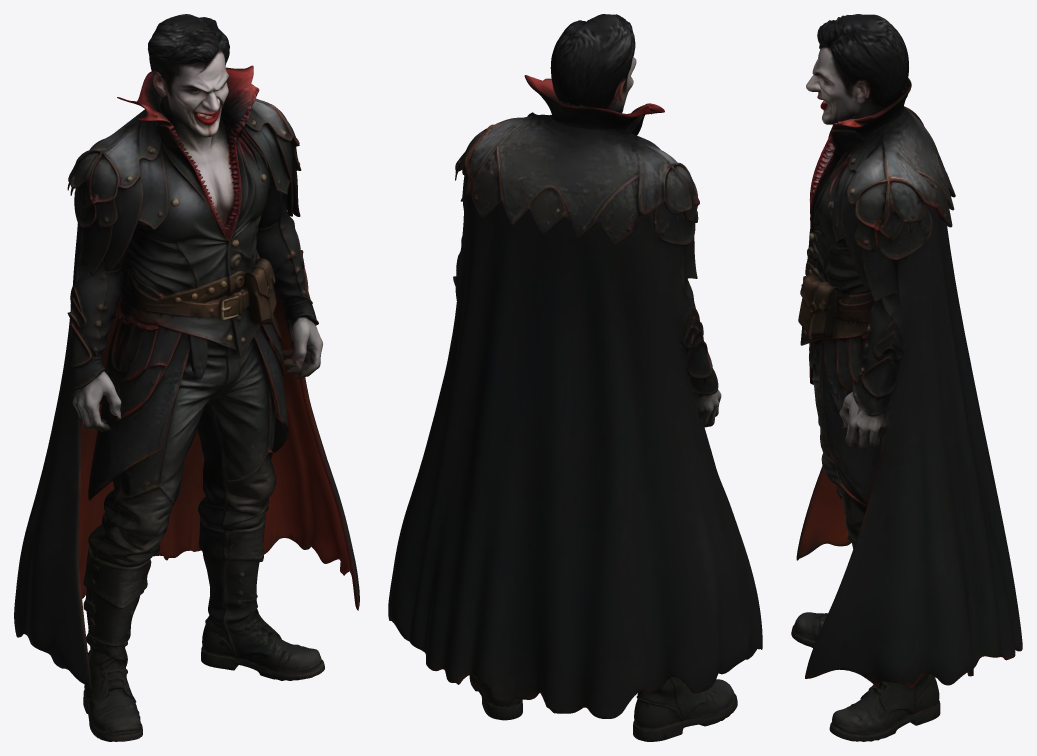
File: vampire_spawn.glb
3 renders of one model, left to right at view 1: azimuth 30°, elevation 25°; view 2: azimuth 150°, elevation 25°; view 3: azimuth 270°, elevation 25°, orthographic. The views are drawn at different scales.
Parts seen in each view (by area): view 1: material; view 2: material; view 3: material.
Part boxes in pixels (bbox=[...]): material: bbox=[14, 14, 359, 741]; material: bbox=[388, 14, 762, 741]; material: bbox=[791, 14, 1022, 741].
Size of the model in its own units: 0.549 by 1.1 by 0.3464.
1 material, 1 textured.
